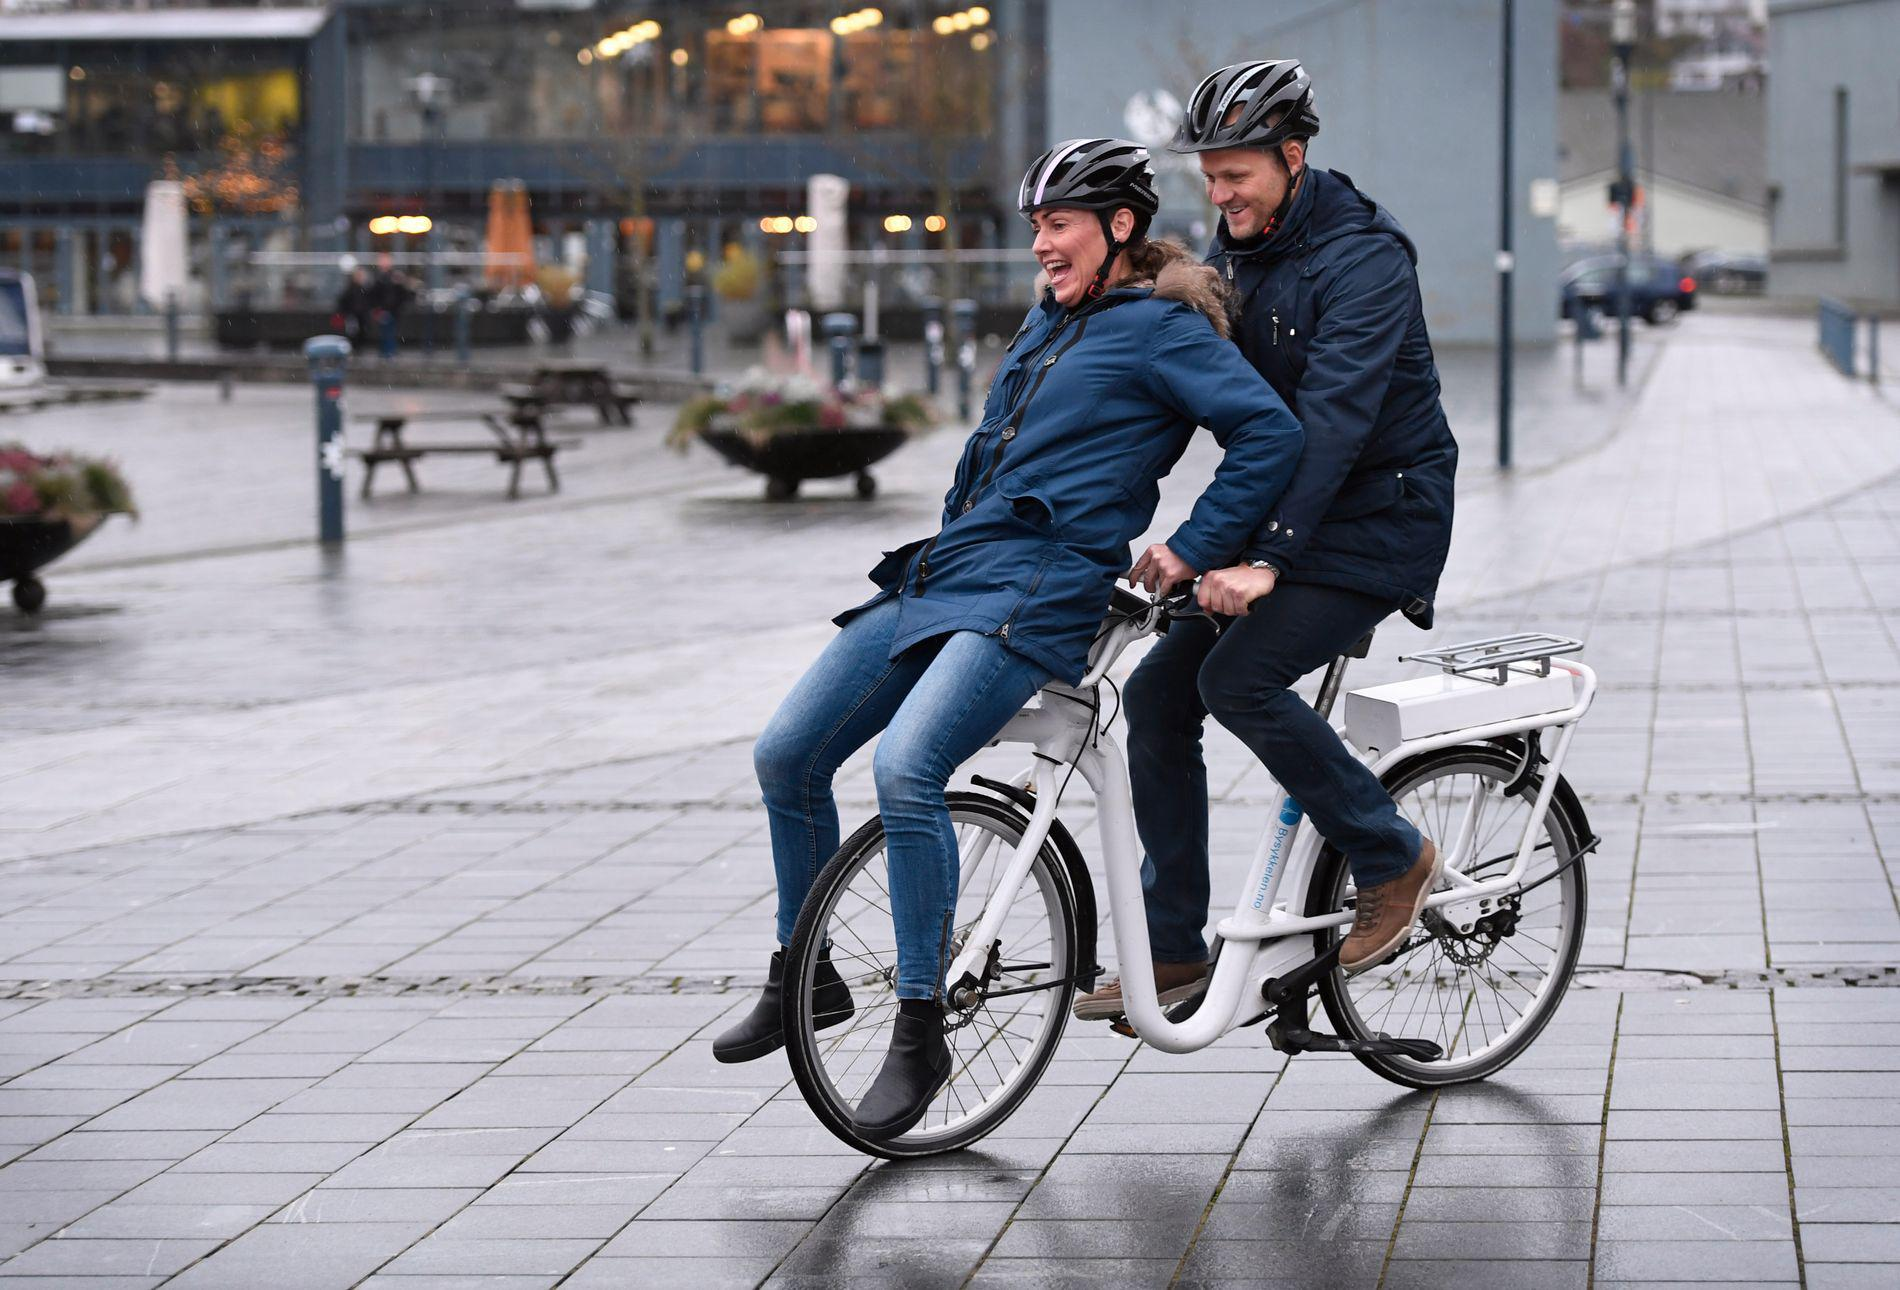Person: (712, 136, 1307, 1132), (1071, 55, 1460, 1022)
